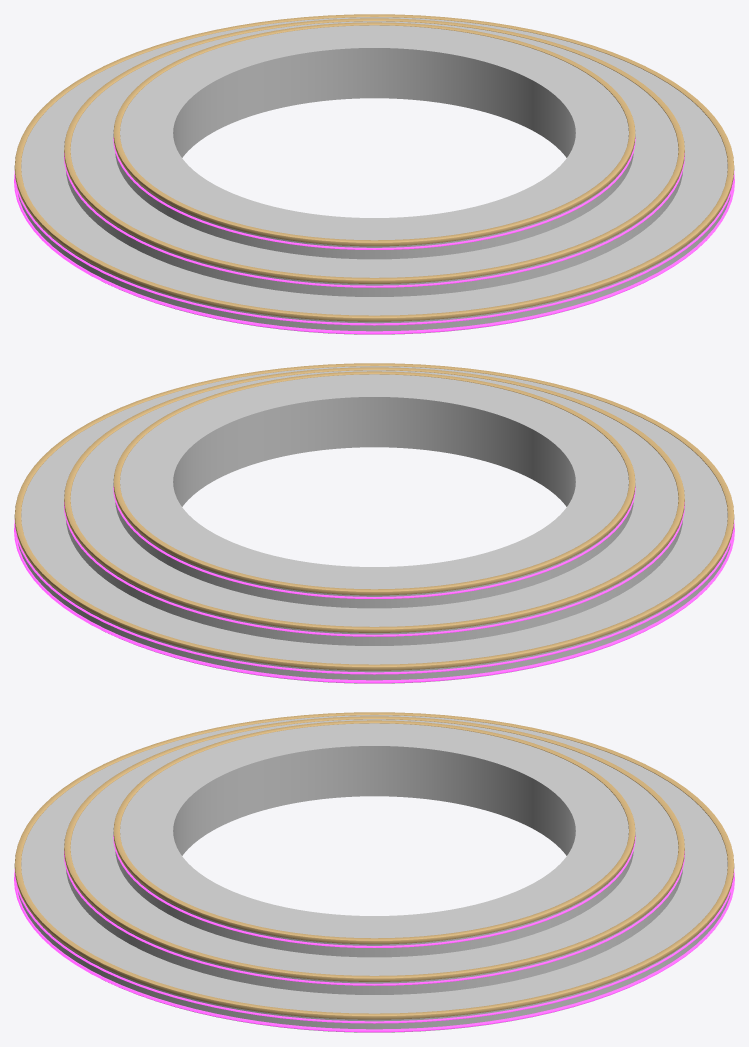
Rendered from JAC_02_Plataforma_Degraus.glb.
3 views of the same model, one above another, from view 1: azimuth 30°, elevation 25°; view 2: azimuth 150°, elevation 25°; view 3: azimuth 270°, elevation 25° (orthographic).
Parts seen in each view (by area): view 1: JAC_02_Plataforma_Degraus; view 2: JAC_02_Plataforma_Degraus; view 3: JAC_02_Plataforma_Degraus.
Part boxes in pixels (x1,y1,x2,y2): JAC_02_Plataforma_Degraus: (14,14,734,334); JAC_02_Plataforma_Degraus: (14,363,734,683); JAC_02_Plataforma_Degraus: (14,712,734,1032).
Bounding box in the file's own units: 5.84 × 0.455 × 5.84.
